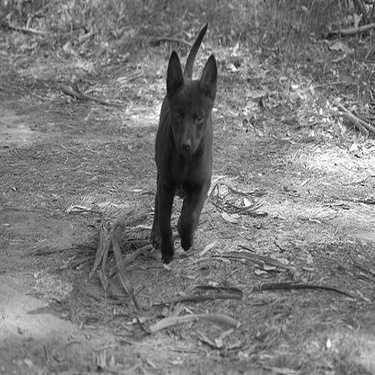dog: (134, 17, 224, 262)
